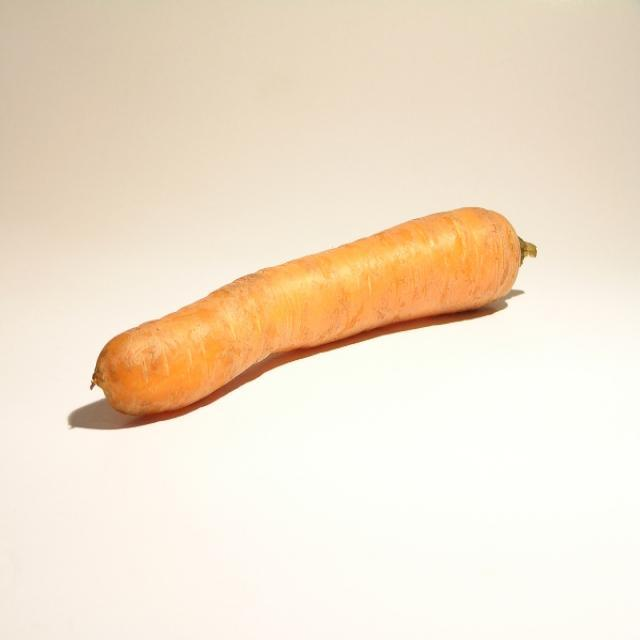Carrot: (86, 206, 542, 415)
